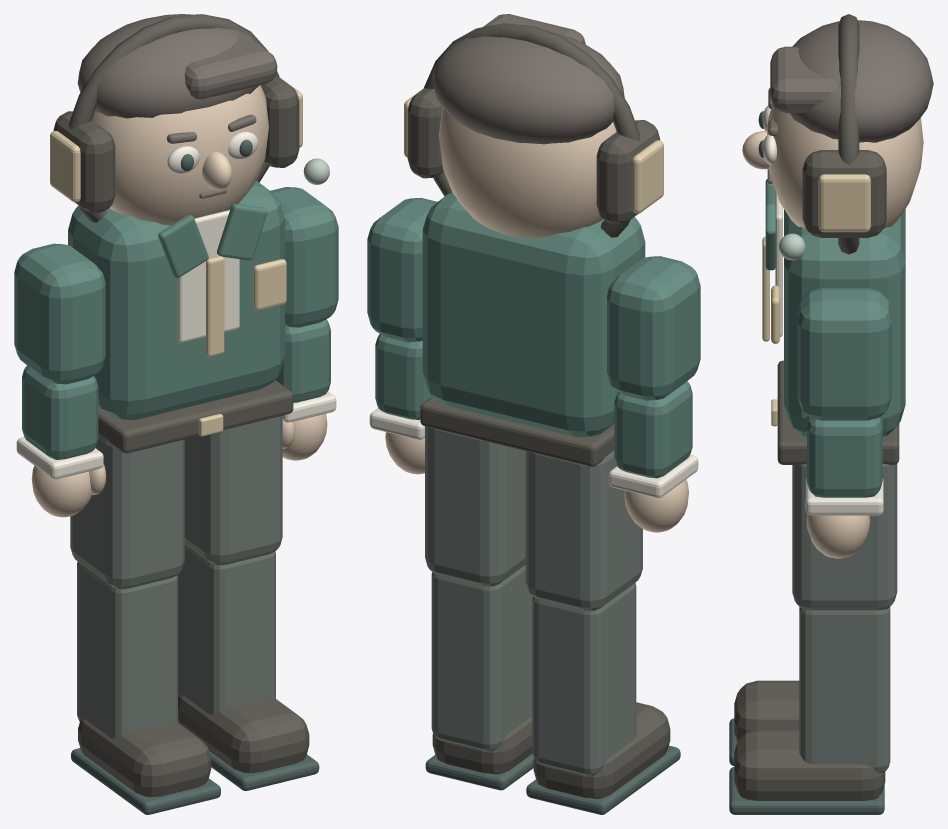
The model's file is blender-chief.glb.
The picture shows the model from 3 angles, left to right: view 1: azimuth 30°, elevation 25°; view 2: azimuth 150°, elevation 25°; view 3: azimuth 270°, elevation 25°; orthographic projection. The views are drawn at different scales.
Visible parts, largest first — view 1: Tailored torso.001, Trouser shin_L.001, Trouser shin_R.001, Trouser thigh_L.001, Sculpted head.001, Trouser thigh_R.001, Sleeve_L.001, Hair cap.001, Shoe_L.001, Shoe_R.001, Sleeve_R.001, Belt.001 (+19 smaller); view 2: Tailored torso.001, Trouser shin_L.001, Trouser shin_R.001, Hair cap.001, Trouser thigh_L.001, Sculpted head.001, Trouser thigh_R.001, Sleeve_L.001, Sleeve_R.001, Cuff_L.001, Belt.001, Shoe_L.001 (+13 smaller); view 3: Trouser shin_R.001, Sleeve_R.001, Tailored torso.001, Hair cap.001, Trouser thigh_R.001, Shoe_R.001, Sculpted head.001, Cuff_R.001, Headphone cup.001, Shoe_L.001, Headband, Headphone brass.001 (+11 smaller).
Part boxes in pixels (x1=…): Tailored torso.001: x1=68, y1=181, x2=284, y2=419; Trouser shin_L.001: x1=77, y1=562, x2=177, y2=738; Trouser shin_R.001: x1=177, y1=544, x2=275, y2=714; Trouser thigh_L.001: x1=70, y1=433, x2=184, y2=589; Sculpted head.001: x1=92, y1=85, x2=268, y2=225; Trouser thigh_R.001: x1=184, y1=415, x2=282, y2=565; Sleeve_L.001: x1=14, y1=243, x2=105, y2=384; Hair cap.001: x1=77, y1=14, x2=258, y2=118; Shoe_L.001: x1=78, y1=719, x2=211, y2=797; Shoe_R.001: x1=178, y1=695, x2=309, y2=773; Sleeve_R.001: x1=270, y1=187, x2=338, y2=327; Belt.001: x1=98, y1=380, x2=293, y2=453; Tailored torso.001: x1=422, y1=193, x2=645, y2=437; Trouser shin_L.001: x1=532, y1=582, x2=636, y2=776; Trouser shin_R.001: x1=431, y1=565, x2=532, y2=751; Hair cap.001: x1=432, y1=31, x2=624, y2=144; Trouser thigh_L.001: x1=525, y1=450, x2=642, y2=610; Sculpted head.001: x1=439, y1=106, x2=616, y2=238; Trouser thigh_R.001: x1=425, y1=426, x2=525, y2=586; Sleeve_L.001: x1=607, y1=256, x2=700, y2=400; Sleeve_R.001: x1=367, y1=197, x2=437, y2=342; Cuff_L.001: x1=614, y1=381, x2=692, y2=478; Belt.001: x1=420, y1=396, x2=614, y2=466; Shoe_L.001: x1=533, y1=702, x2=670, y2=798; Trouser shin_R.001: x1=799, y1=606, x2=890, y2=772; Sleeve_R.001: x1=797, y1=288, x2=891, y2=420; Tailored torso.001: x1=784, y1=209, x2=905, y2=436; Hair cap.001: x1=790, y1=20, x2=933, y2=142; Trouser thigh_R.001: x1=792, y1=463, x2=897, y2=610; Shoe_R.001: x1=734, y1=729, x2=885, y2=800; Sculpted head.001: x1=767, y1=105, x2=923, y2=228; Cuff_R.001: x1=807, y1=415, x2=882, y2=497; Headphone cup.001: x1=802, y1=150, x2=886, y2=237; Shoe_L.001: x1=734, y1=680, x2=799, y2=742; Headband: x1=838, y1=14, x2=859, y2=254; Headphone brass.001: x1=818, y1=174, x2=870, y2=232.
Size of the model in its own units: 0.825 by 1.97 by 0.487.
